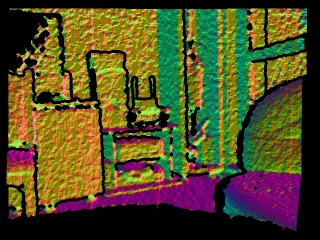station: (131, 75, 157, 108)
